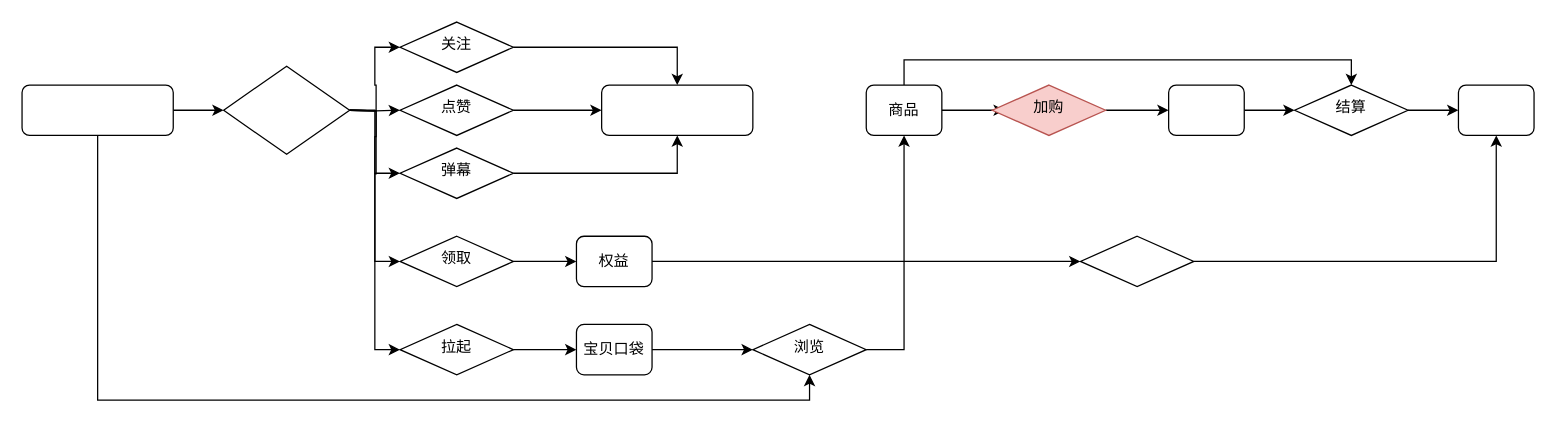
Some shapes in this 1556 by 432 pixel diagram are drawn without their labels. Here are the shapes that lost their labels. From the top down, the box of each, then its label:
(21, 84, 173, 135): 用户
(222, 65, 350, 154): 进入
(600, 84, 753, 135): 直播间
(1167, 84, 1244, 135): 购物车
(1457, 84, 1534, 135): 订单
(1079, 235, 1194, 287): 核销
